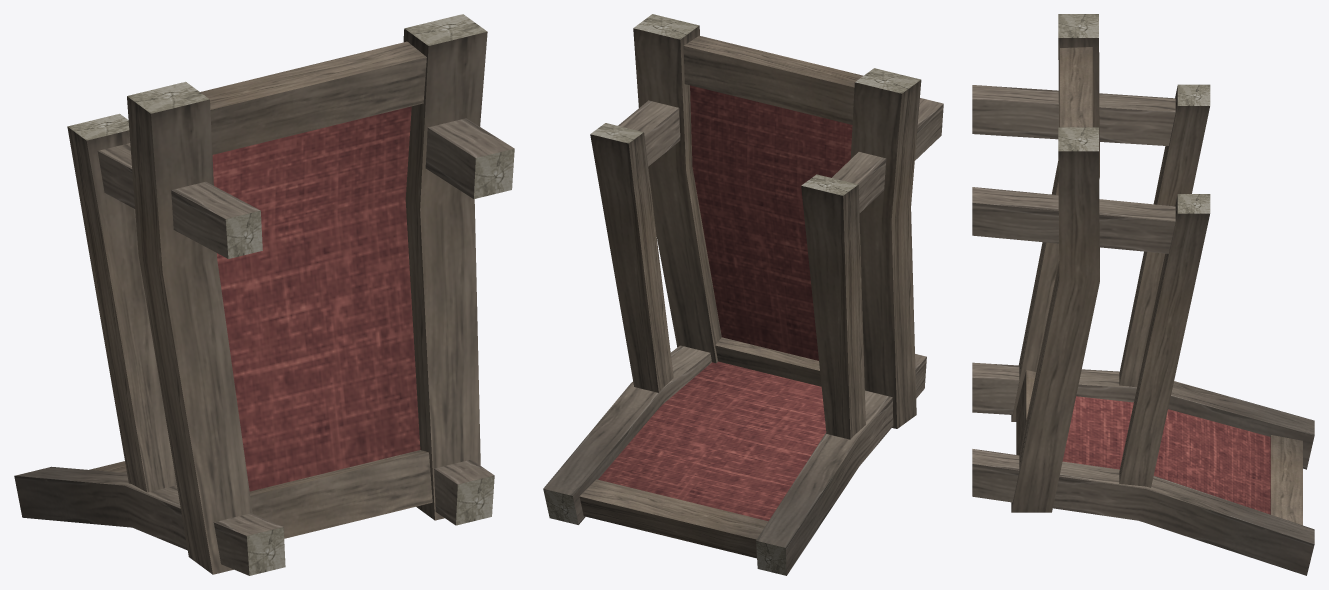
The model's file is LongChair_Type_01_D.fbx.
3 renders of one model, left to right at view 1: azimuth 30°, elevation 25°; view 2: azimuth 150°, elevation 25°; view 3: azimuth 270°, elevation 25°, orthographic. The views are drawn at different scales.
Visible parts, largest first — view 1: LongChair_Type_01_D; view 2: LongChair_Type_01_D; view 3: LongChair_Type_01_D.
Part boxes in pixels (box(x1,y1,x2,y2)): LongChair_Type_01_D: box(14, 14, 514, 575); LongChair_Type_01_D: box(543, 14, 943, 575); LongChair_Type_01_D: box(972, 14, 1314, 575).
Size of the model in its own units: 1.12 by 1.65 by 1.18.
